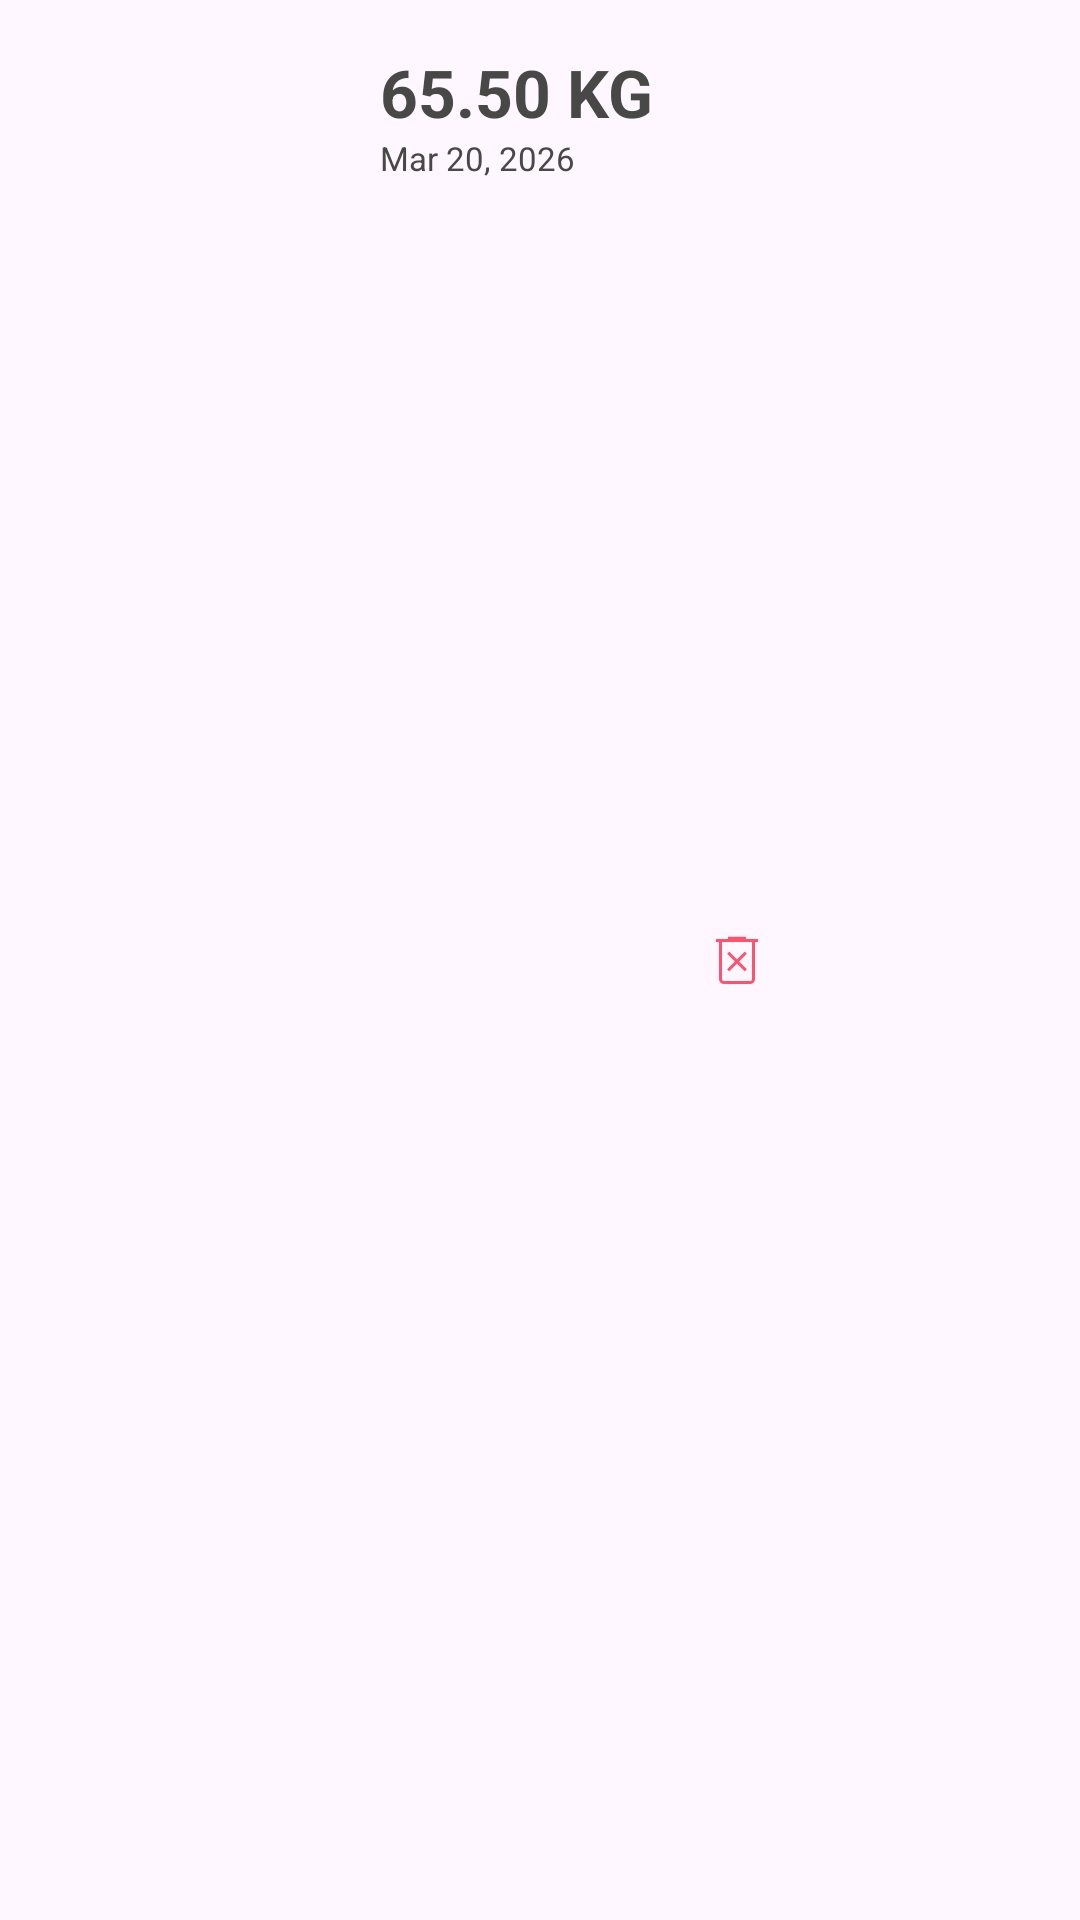

Icons on this 1080×1920 Android screen, each with its box as (x1, y1, x2, y2):
Delete Weight Recording: (716, 936, 758, 984)
